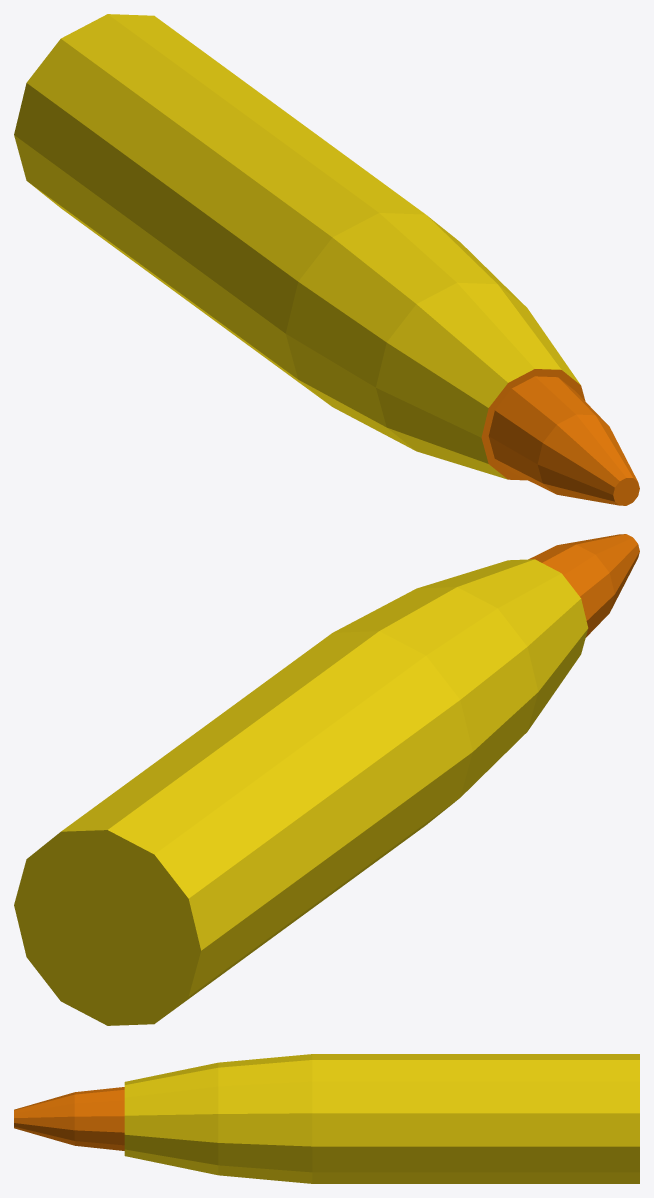
File: RifleRound.glb
3 views of the same model, one above another, from view 1: azimuth 30°, elevation 25°; view 2: azimuth 150°, elevation 25°; view 3: azimuth 270°, elevation 25° (orthographic). The views are drawn at different scales.
Visible parts, largest first — view 1: RifleRound; view 2: RifleRound; view 3: RifleRound.
Boxes of the visible parts, x1,y1,x2,y2 form: RifleRound: (14, 14, 639, 505); RifleRound: (14, 534, 639, 1025); RifleRound: (14, 1054, 639, 1183).
Size of the model in its own units: 0.0098 by 0.0098 by 0.0471.
